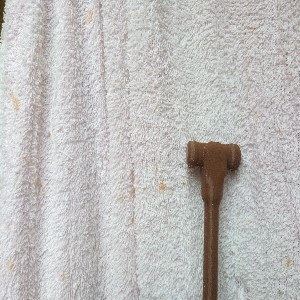palu: (186, 139, 242, 300)
